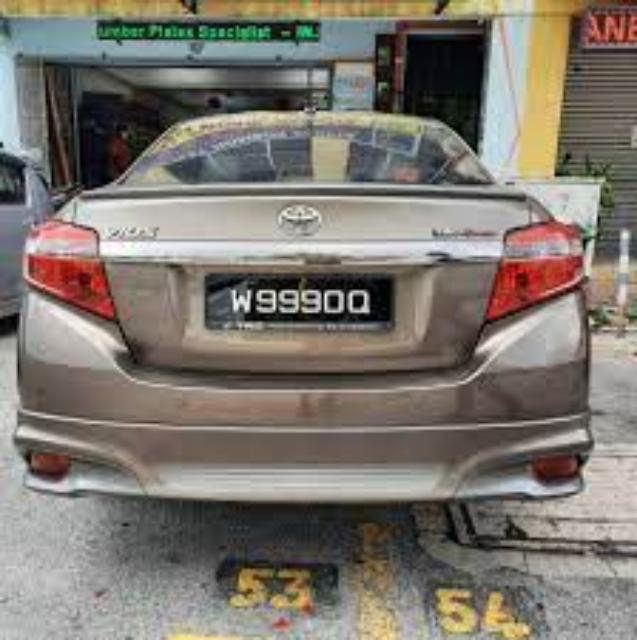License_Plate: (186, 246, 416, 359)
car: (20, 113, 593, 509)
